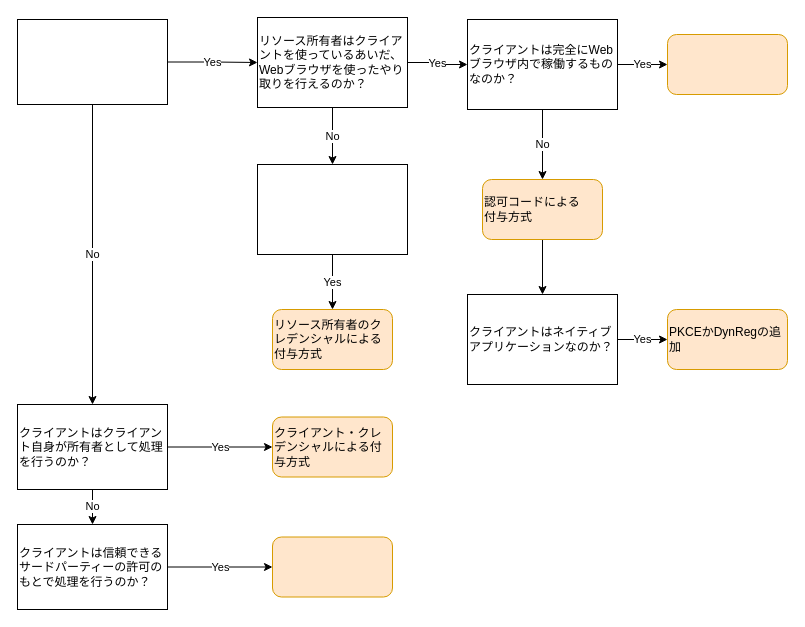
The diagram is 805 pixels wide and 627 high, and some of its shapes have lost their labels. Here are the shapes that lost their labels. From the top down, the centre of each, then its label:
point (92, 61): クライアントはリソースの所有者としてふるまうのか？
point (727, 64): インプリシット 付与方式
point (332, 209): ユーザーはパスワードのようなシンプルなクレデンシャルを持っているのか？
point (332, 566): アサーションによる付与方式
